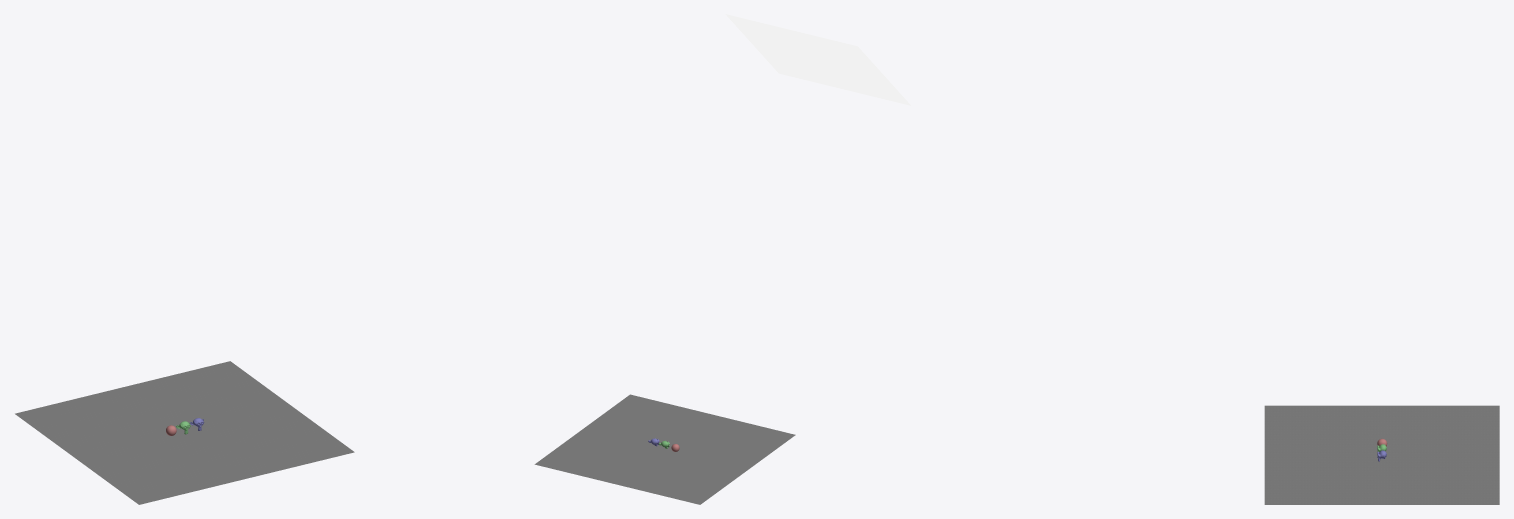
The model's file is subdiv_al.gltf.
3 renders of one model, left to right at view 1: azimuth 30°, elevation 25°; view 2: azimuth 150°, elevation 25°; view 3: azimuth 270°, elevation 25°, orthographic. The views are drawn at different scales.
Visible parts, largest first — view 1: floor_matte_grid; view 2: floor_matte_grid, alightf_light_areaf; view 3: floor_matte_grid.
Part boxes in pixels (x1,y1,x2,y2): floor_matte_grid: (15,361,354,504); floor_matte_grid: (534,394,795,504); alightf_light_areaf: (725,14,910,105); floor_matte_grid: (1264,405,1499,504).
Size of the model in its own units: 40 by 75.4 by 95.22.
6 materials, 1 textured.
